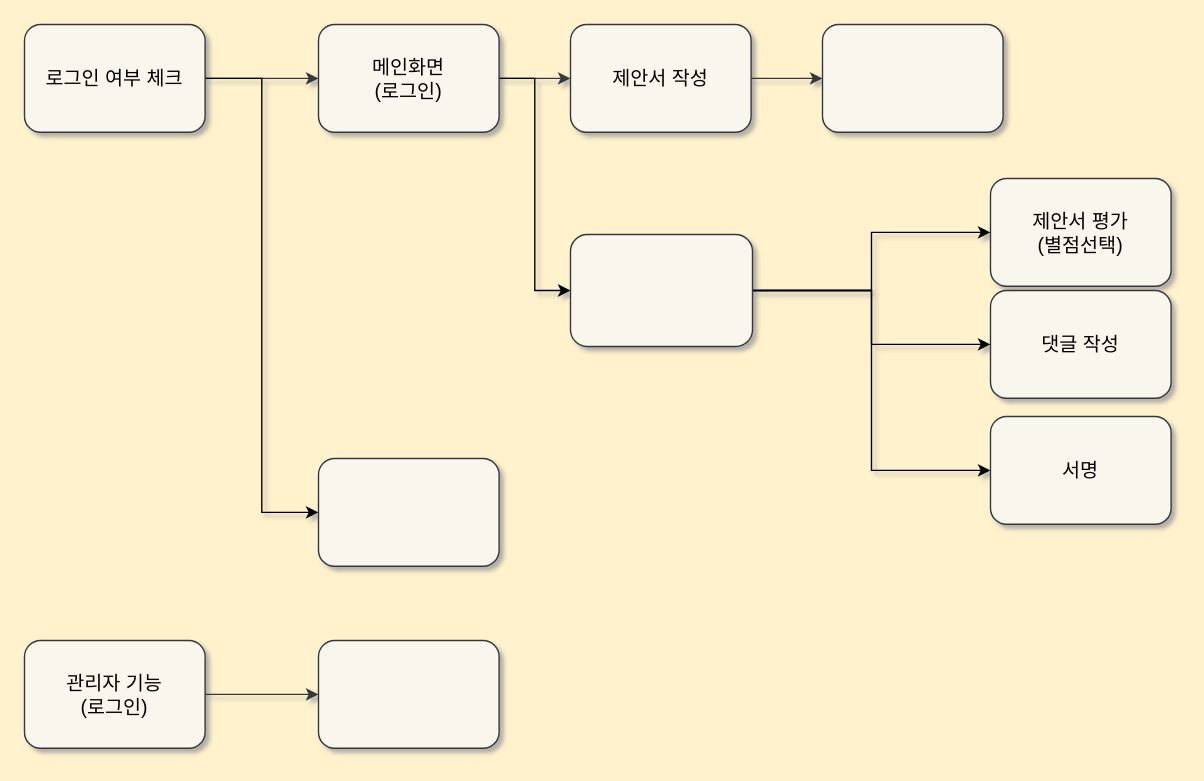
Image size: 1204x781. Some labels were removed from this diagram. Here are the shapes that lost their labels. From the top down, the box of each, then its label:
(821, 23, 1003, 132): 제안서 제출
(569, 233, 752, 346): 제안서 상세 정보 확인
(317, 457, 499, 566): 메인화면 (비로그인)
(317, 639, 499, 748): 제안서 목록 (삭제기능)
